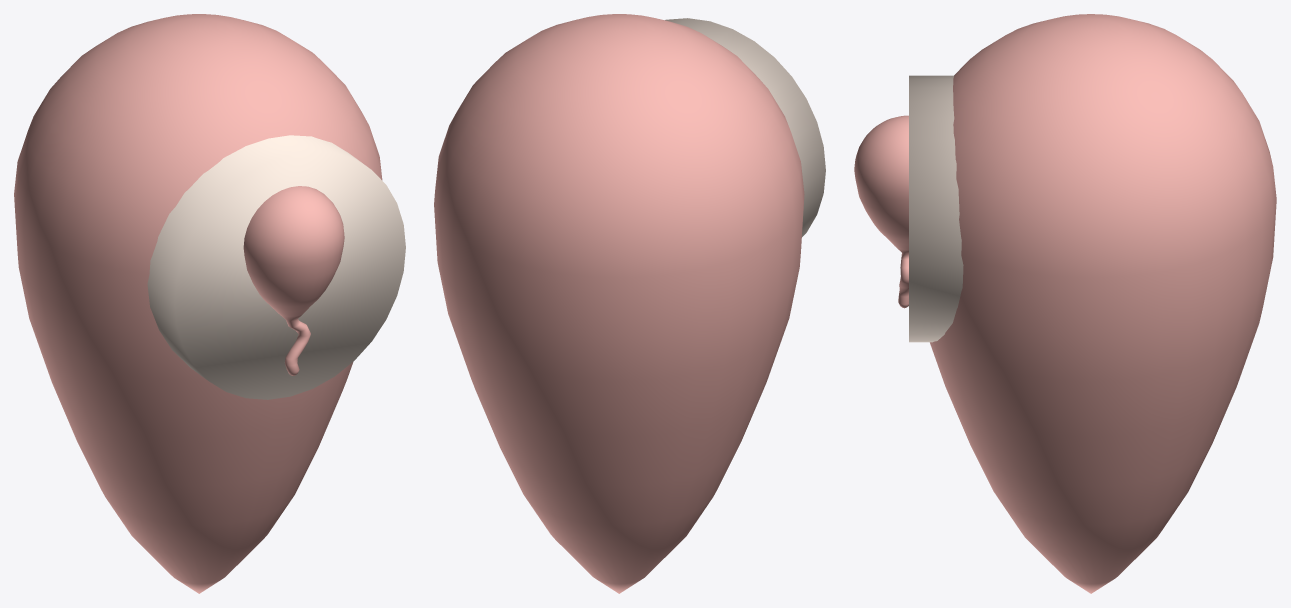
Rendered from eventPin.glb.
3 views of the same model, side by side, from view 1: azimuth 30°, elevation 25°; view 2: azimuth 150°, elevation 25°; view 3: azimuth 270°, elevation 25° (orthographic).
Parts seen in each view (by area): view 1: pin.004, Cylinder.004, balloon; view 2: pin.004, Cylinder.004; view 3: pin.004, Cylinder.004, balloon.
Boxes of the visible parts, x1,y1,x2,y2 form: pin.004: [14, 14, 382, 593]; Cylinder.004: [147, 135, 405, 399]; balloon: [243, 186, 344, 375]; pin.004: [434, 14, 804, 593]; Cylinder.004: [665, 18, 825, 236]; pin.004: [930, 14, 1276, 593]; Cylinder.004: [909, 75, 963, 342]; balloon: [854, 115, 908, 308].
Size of the model in its own units: 0.2435 by 0.4072 by 0.2771.
